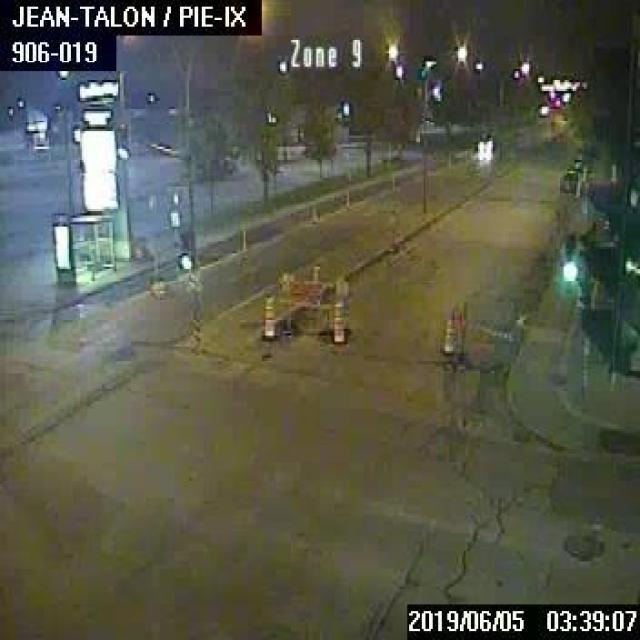construction: (273, 264, 350, 338), (449, 299, 519, 362), (329, 298, 346, 343), (259, 292, 275, 337), (441, 317, 454, 353)
vehicle: (558, 170, 578, 191), (475, 132, 494, 148)
